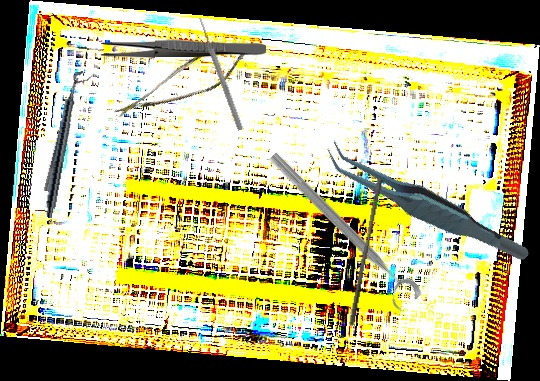Dressing Forceps: (100, 37, 267, 59)
Fixation Ring: (257, 148, 424, 315), (42, 69, 93, 195)
Handpiece: (43, 75, 82, 220)
Micro Scissor: (112, 23, 255, 147)
Pusher: (196, 16, 245, 132), (348, 178, 384, 327)
Tissue Forceps: (320, 108, 532, 300)
